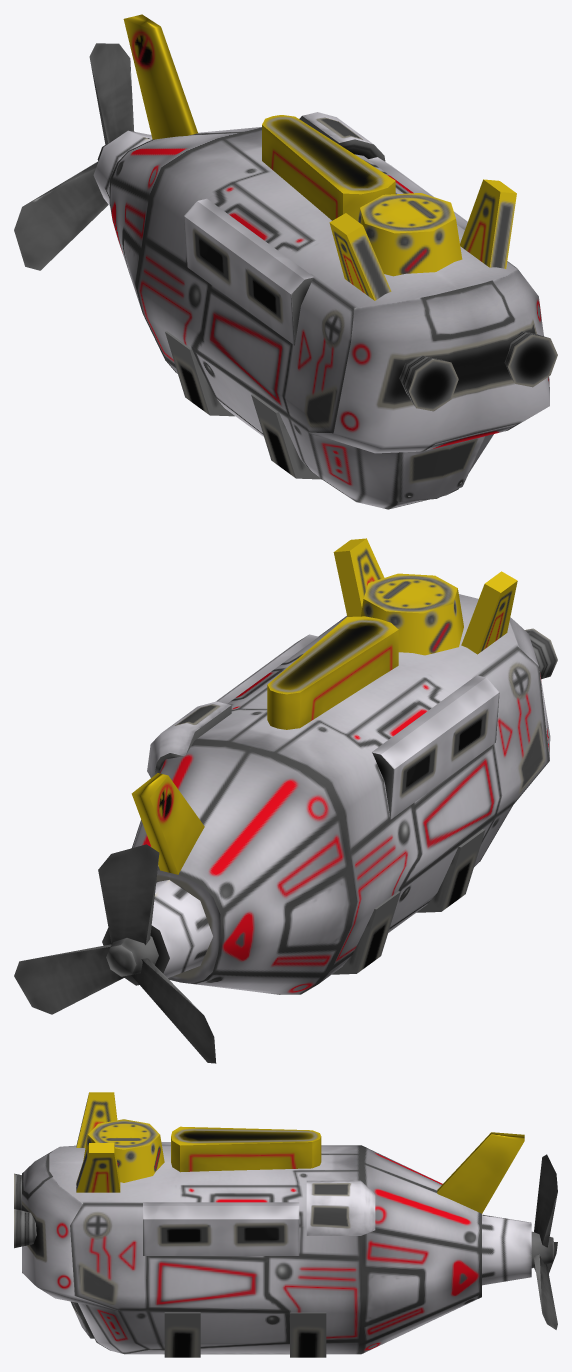
The model's file is sabmarin.fbx.
3 views of the same model, one above another, from view 1: azimuth 30°, elevation 25°; view 2: azimuth 150°, elevation 25°; view 3: azimuth 270°, elevation 25° (orthographic). The views are drawn at different scales.
Visible parts, largest first — view 1: polySurface6, polySurface2; view 2: polySurface6, polySurface2; view 3: polySurface6, polySurface2.
Boxes of the visible parts, left/top/right/bottom form: polySurface6: left=93, top=14, right=557, bottom=509; polySurface2: left=14, top=43, right=134, bottom=270; polySurface6: left=102, top=538, right=557, bottom=994; polySurface2: left=14, top=844, right=216, bottom=1063; polySurface6: left=14, top=1092, right=531, bottom=1357; polySurface2: left=531, top=1154, right=557, bottom=1329.
Bounding box in the file's own units: 1.73 × 2.26 × 5.03.
Materials: 1 (1 with a texture image).
